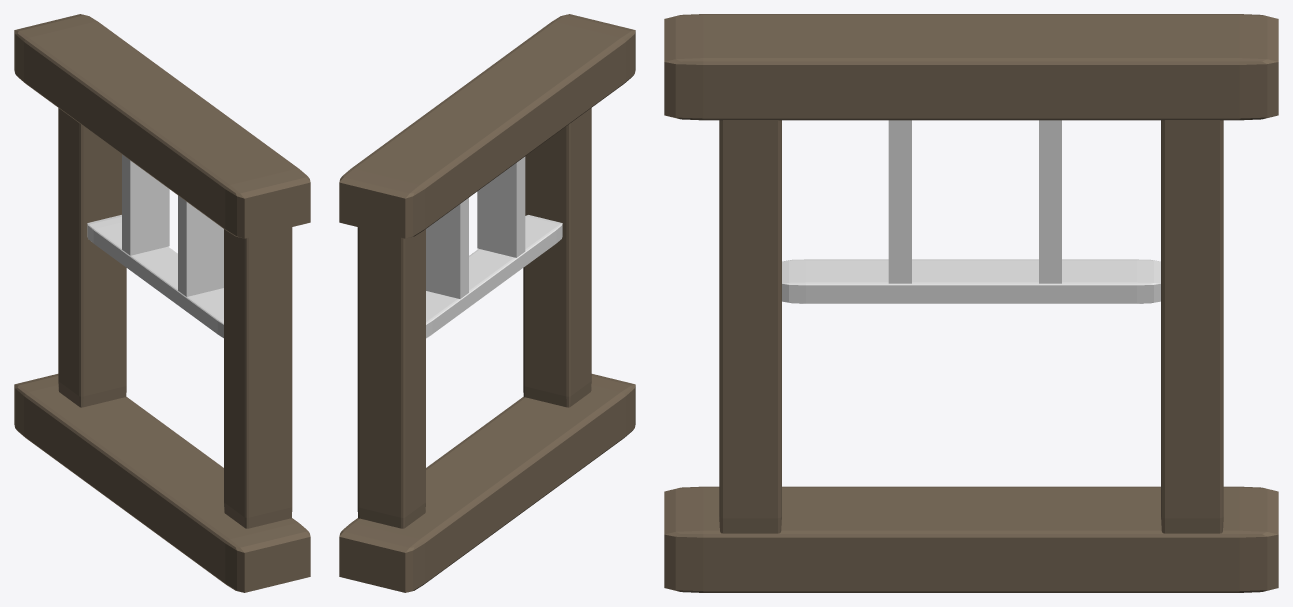
Rendered from WindowSmall.fbx.
3 views of the same model, side by side, from view 1: azimuth 30°, elevation 25°; view 2: azimuth 150°, elevation 25°; view 3: azimuth 270°, elevation 25° (orthographic). The views are drawn at different scales.
Parts seen in each view (by area): view 1: Cube.001, Cube, Cube.003, Cube.002, Cube.004, Cube.005, Cube.006; view 2: Cube.001, Cube, Cube.002, Cube.003, Cube.004, Cube.006, Cube.005; view 3: Cube.001, Cube, Cube.002, Cube.003, Cube.004, Cube.006, Cube.005.
Part boxes in pixels (box(x1,y1,x2,y2)): Cube.001: box(14, 14, 310, 238); Cube: box(14, 374, 310, 592); Cube.003: box(224, 227, 292, 528); Cube.002: box(58, 108, 126, 407); Cube.004: box(87, 215, 223, 338); Cube.005: box(122, 154, 169, 255); Cube.006: box(178, 195, 223, 296); Cube.001: box(339, 14, 635, 238); Cube: box(339, 374, 635, 592); Cube.002: box(357, 227, 425, 528); Cube.003: box(523, 108, 591, 407); Cube.004: box(426, 215, 562, 338); Cube.006: box(477, 156, 525, 257); Cube.005: box(426, 198, 468, 298); Cube.001: box(664, 14, 1278, 120); Cube: box(664, 486, 1278, 592); Cube.002: box(1161, 120, 1223, 533); Cube.003: box(719, 120, 781, 533); Cube.004: box(782, 259, 1160, 303); Cube.006: box(888, 120, 911, 283); Cube.005: box(1039, 120, 1061, 283).
Size of the model in its own units: 136 by 687 by 716.
